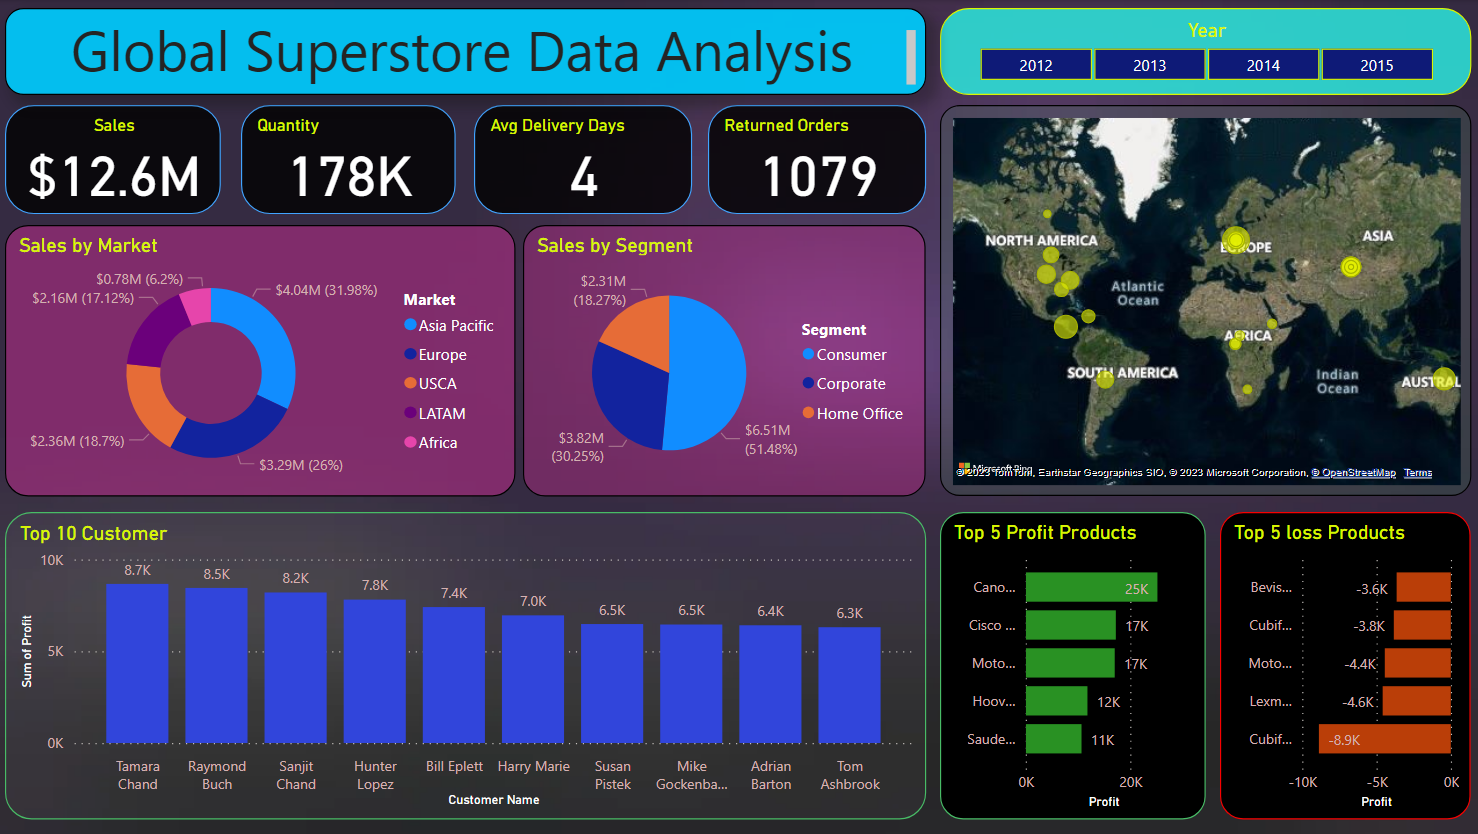

What the dashboard file says about the page in this screenshot:
{"tool":"powerbi","page":{"name":"Page 1","canvas":[1280,720],"ordinal":0},"visuals":[{"type":"card","title":"Sales","fields":{"Values":["Orders.Sales"]},"box":[6.9,90.5,186.2,94],"z":0},{"type":"card","title":"Quantity","fields":{"Values":["Orders.Quantity"]},"box":[210.3,90.5,185.3,94],"z":1000},{"type":"card","title":"Avg Delivery Days","fields":{"Values":["Orders.Deliver Date"]},"box":[411.2,90.5,187.9,94],"z":2000},{"type":"slicer","title":"Year","fields":{"Values":["Orders.Year"]},"box":[812.8,6.9,457.7,75],"z":3000},{"type":"card","title":"Returned Orders","fields":{"Values":["Returns.Return Order"]},"box":[612.8,90.5,187.9,94],"z":4000},{"type":"map","fields":{"Category":["Orders.Region"],"Size":["Orders.Sales"]},"box":[812.8,90.5,457.7,337],"z":5000},{"type":"barChart","title":"Top 5 Profit Products","fields":{"Y":["Orders.Profit"],"Category":["Orders.Product Name"]},"box":[812.8,441.3,229.3,265.5],"z":6000},{"type":"barChart","title":"Top 5 loss Products","fields":{"Y":["Orders.Profit"],"Category":["Orders.Product Name"]},"box":[1054.2,441.3,216.4,265.5],"z":7000},{"type":"pieChart","title":"Sales by Segment","fields":{"Category":["Orders.Segment"],"Y":["Orders.Sales"]},"box":[453.4,193.9,347.4,233.6],"z":8000},{"type":"donutChart","title":"Sales by Market","fields":{"Category":["Orders.Market"],"Y":["Orders.Sales"]},"box":[6.9,193.9,440.5,233.6],"z":9000},{"type":"columnChart","title":"Top 10 Customer","fields":{"Category":["Orders.Customer Name"],"Y":["Orders.Profit"]},"box":[6.9,441.3,793.9,265.5],"z":10000},{"type":"textbox","box":[6.9,6.9,793.9,75],"z":11000}]}

Visuals, with their boxes in screenshot pixels (x1, y1, x2, y2), scaled from the page's 1280x720 canvas onto the 1478x834 screenshot:
"Sales" card: 8, 105, 223, 214
"Quantity" card: 243, 105, 457, 214
"Avg Delivery Days" card: 475, 105, 692, 214
"Year" slicer: 939, 8, 1467, 95
"Returned Orders" card: 708, 105, 925, 214
map - Orders.Region x Orders.Sales: 939, 105, 1467, 495
"Top 5 Profit Products" barChart: 939, 511, 1203, 819
"Top 5 loss Products" barChart: 1217, 511, 1467, 819
"Sales by Segment" pieChart: 524, 225, 925, 495
"Sales by Market" donutChart: 8, 225, 517, 495
"Top 10 Customer" columnChart: 8, 511, 925, 819
textbox: 8, 8, 925, 95
